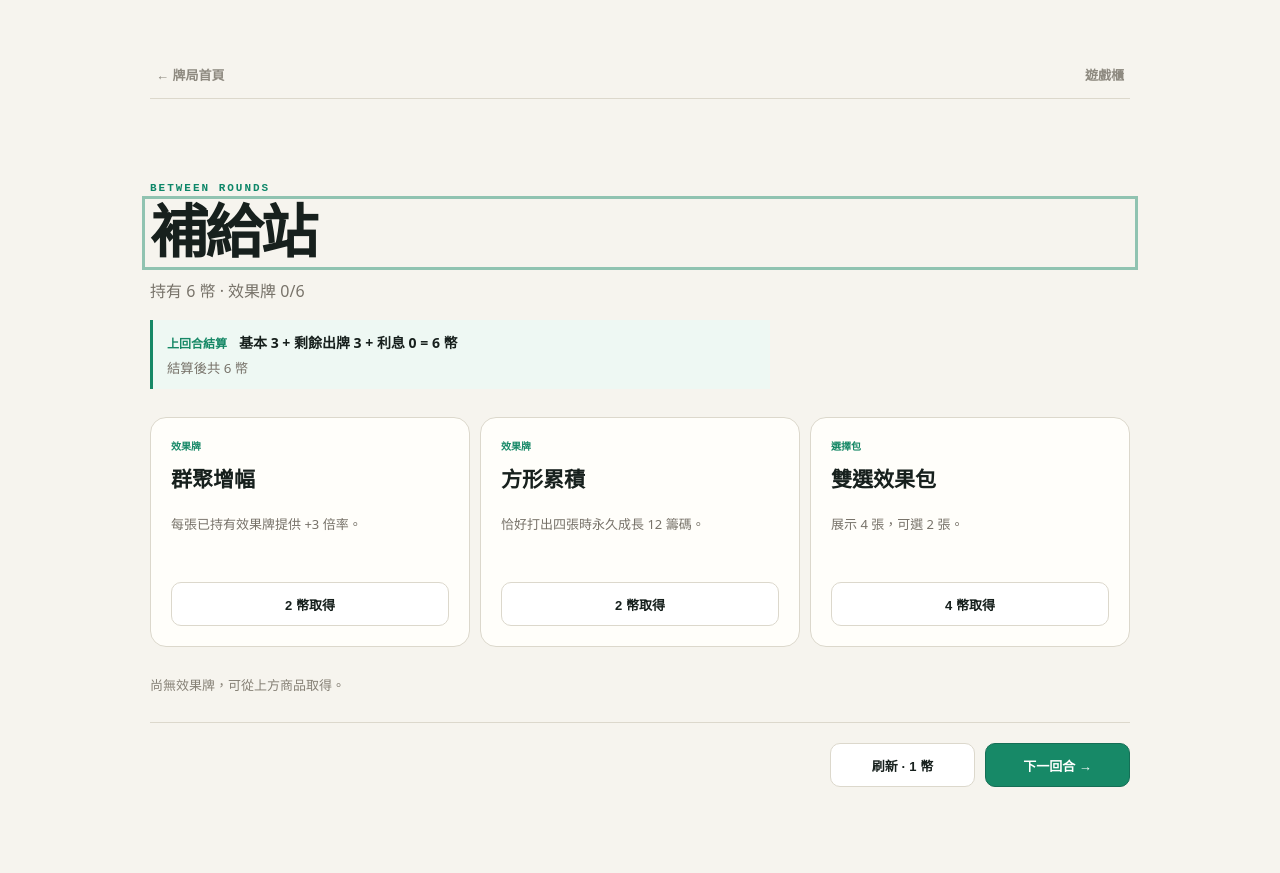
Test case: mounted poker play behavior › opens the next round immediately with reduced motion false
Step 1. Click the button "下一回合 →" → (1058, 765), box [985, 743, 1130, 787]
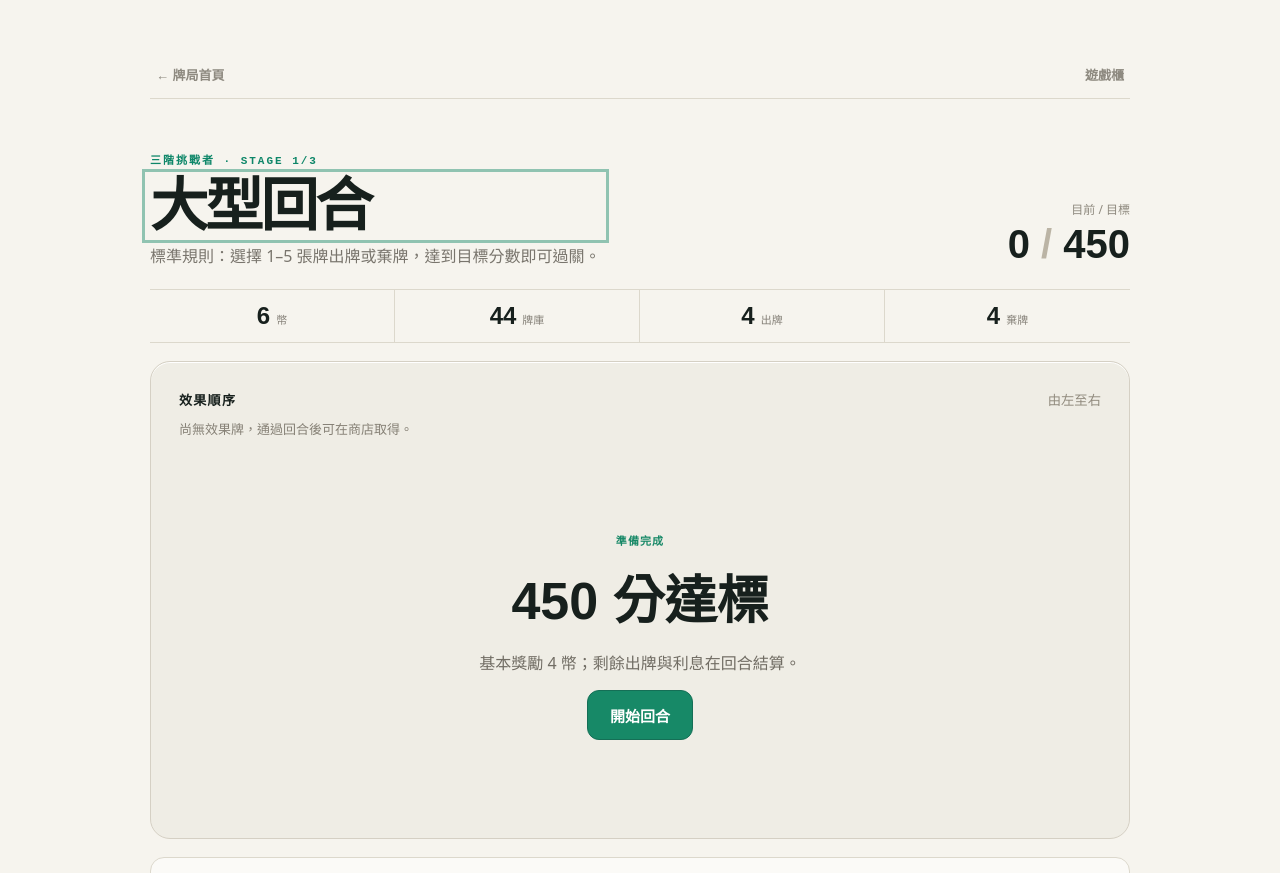
Now the button "開始回合" is enabled
Step 2. Click the button "開始回合" → (640, 715), box [587, 690, 693, 740]
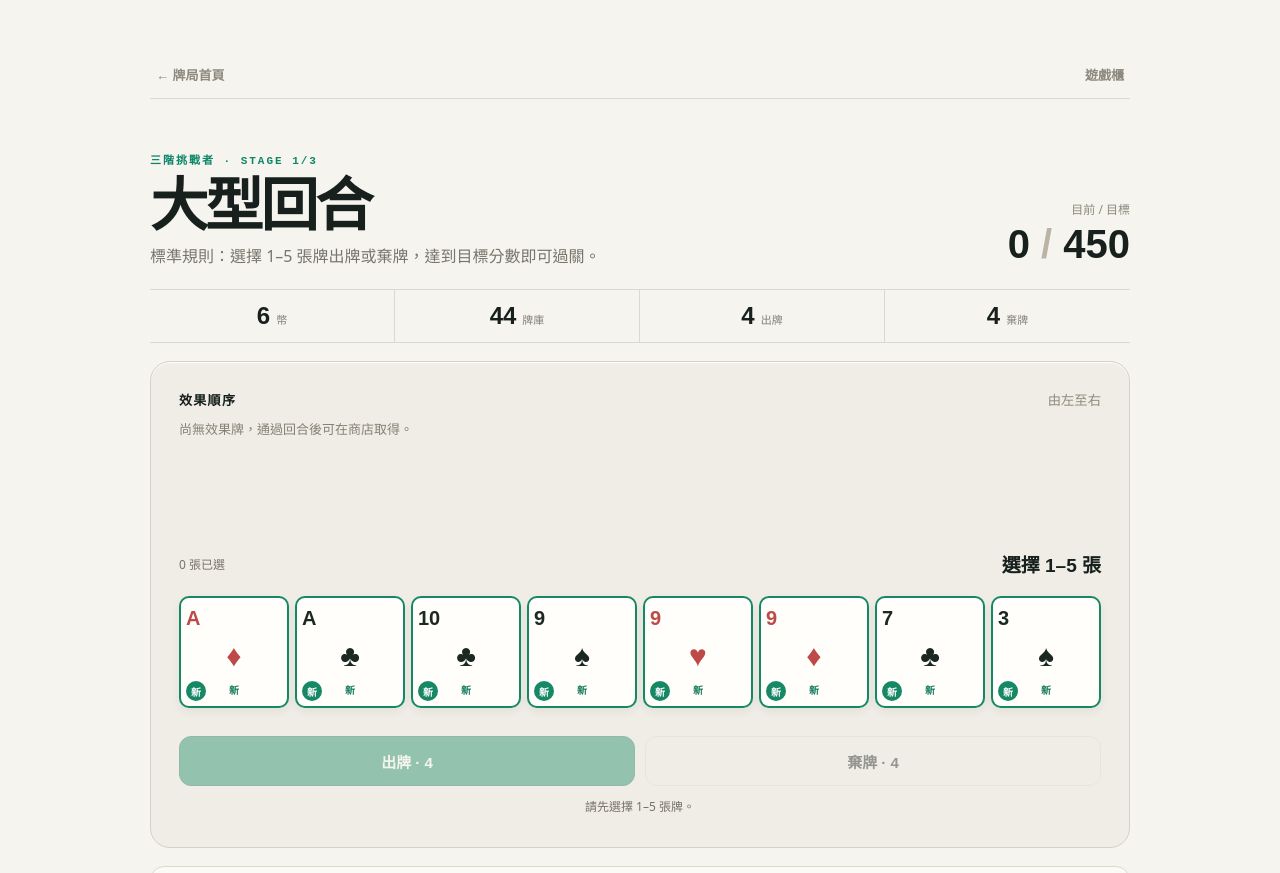
Now the button "出牌 · 4" is shown, box [179, 736, 635, 786]
